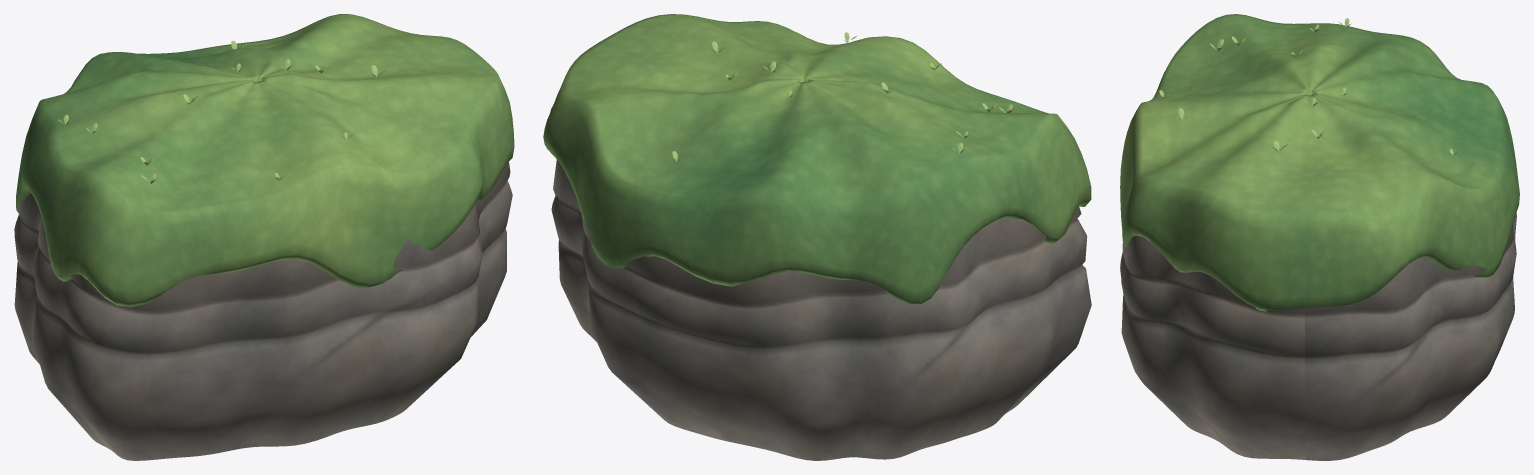
File: SM_Valley_MossCreekBoulder.fbx
The picture shows the model from 3 angles, left to right: view 1: azimuth 30°, elevation 25°; view 2: azimuth 150°, elevation 25°; view 3: azimuth 270°, elevation 25°; orthographic projection. The views are drawn at different scales.
Visible parts, largest first — view 1: SM_Valley_MossCreekBoulder; view 2: SM_Valley_MossCreekBoulder; view 3: SM_Valley_MossCreekBoulder.
Boxes of the visible parts, box(x1,y1,x2,y2) form: SM_Valley_MossCreekBoulder: box(14, 14, 514, 460); SM_Valley_MossCreekBoulder: box(543, 14, 1091, 460); SM_Valley_MossCreekBoulder: box(1120, 14, 1519, 460).
Bounding box in the file's own units: 109 × 84.56 × 71.88.
Materials: 3 (2 with a texture image).
